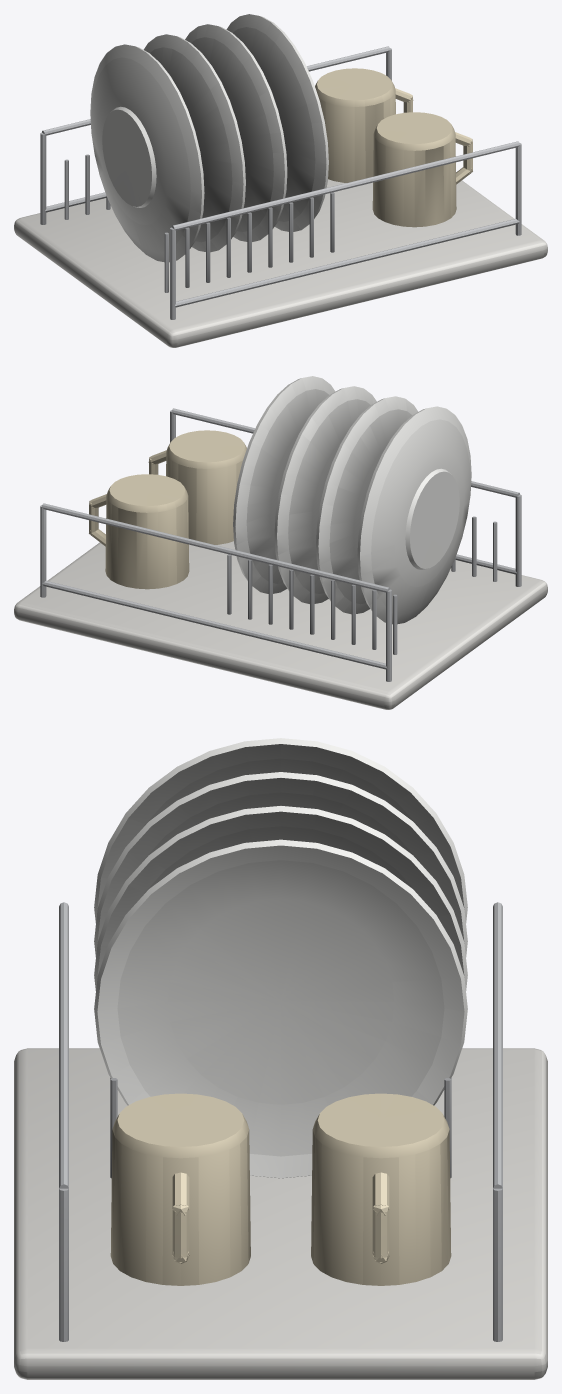
File: dish_rack.glb
3 views of the same model, one above another, from view 1: azimuth 30°, elevation 25°; view 2: azimuth 150°, elevation 25°; view 3: azimuth 270°, elevation 25° (orthographic). The views are drawn at different scales.
Parts seen in each view (by area): view 1: body; view 2: body; view 3: body.
Part boxes in pixels (x1=…): body: x1=14, y1=14, x2=547, y2=347; body: x1=14, y1=376, x2=547, y2=709; body: x1=14, y1=738, x2=547, y2=1379.
Size of what is drawn, in the model's own units: 0.44 by 0.252 by 0.32.
